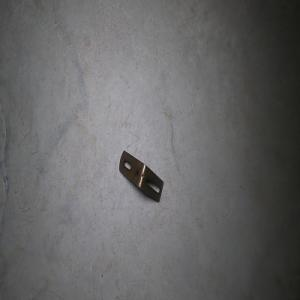MetalPart: (118, 149, 164, 203)
